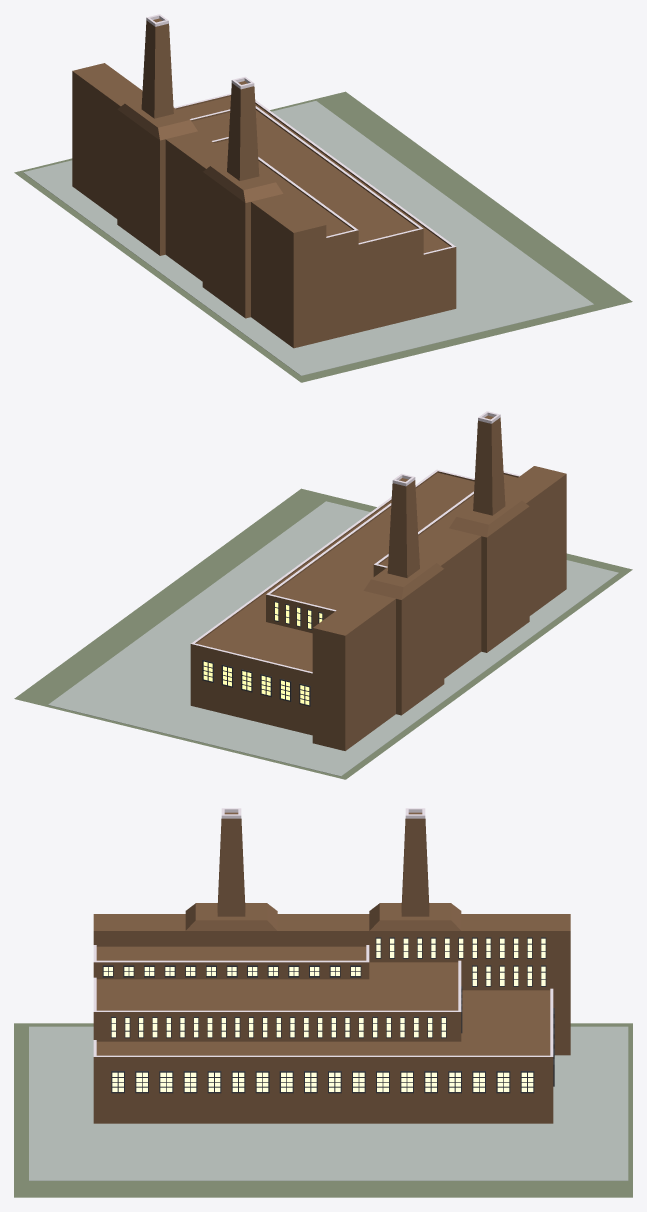
The model's file is factory_placeholder.glb.
3 views of the same model, one above another, from view 1: azimuth 30°, elevation 25°; view 2: azimuth 150°, elevation 25°; view 3: azimuth 270°, elevation 25° (orthographic). The views are drawn at different scales.
Visible parts, largest first — view 1: Factory, Plane.002, Plane.001; view 2: Factory, Plane.002, Plane.001; view 3: Factory, Plane.002, Plane.001.
Part boxes in pixels (box(x1,y1,x2,y2)): Factory: box(72, 14, 456, 348); Plane.002: box(23, 101, 593, 375); Plane.001: box(14, 91, 632, 382); Factory: box(190, 411, 566, 750); Plane.002: box(48, 501, 618, 776); Plane.001: box(14, 488, 632, 779); Factory: box(93, 808, 570, 1123); Plane.002: box(29, 1026, 628, 1180); Plane.001: box(14, 1023, 632, 1197).
Size of the model in its own units: 120 by 75 by 180.
